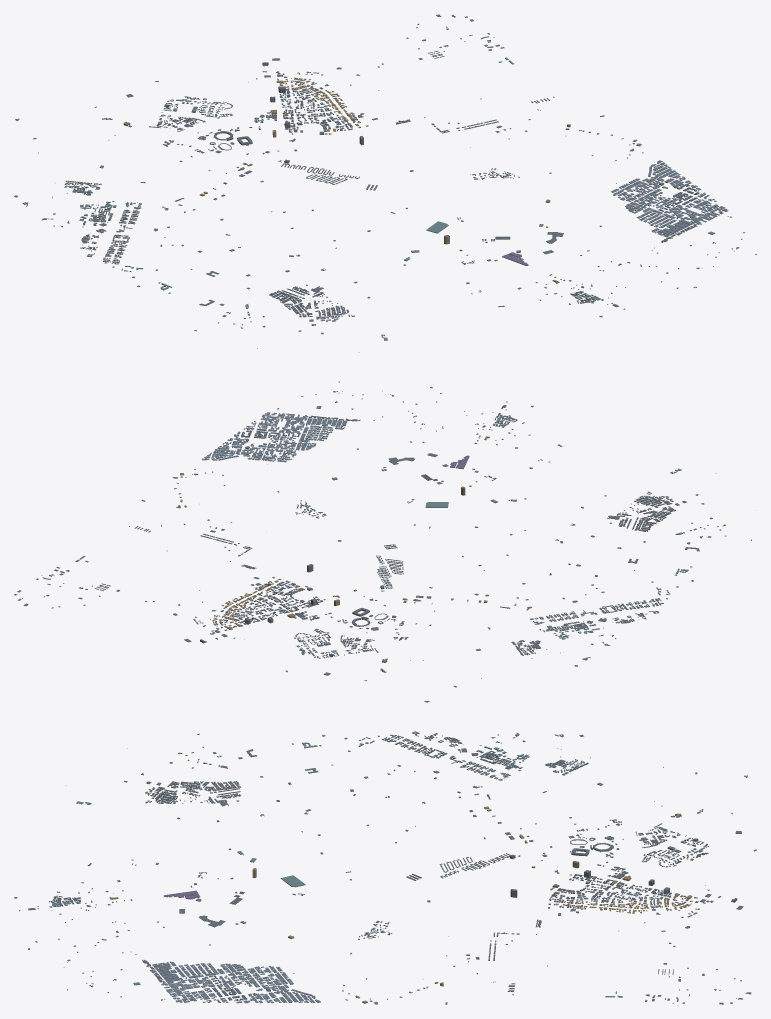
File: low_pilot.glb
The picture shows the model from 3 angles, top to bottom: view 1: azimuth 30°, elevation 25°; view 2: azimuth 150°, elevation 25°; view 3: azimuth 270°, elevation 25°; orthographic projection. The views are drawn at different scales.
Visible parts, largest first — view 1: building-unknown, building-residential, building-commercial, building-institutional; view 2: building-unknown, building-residential, building-commercial, building-institutional; view 3: building-unknown, building-residential, building-commercial, building-institutional.
Part boxes in pixels (<box>): building-unknown: <box>14,14,745,352</box>; building-residential: <box>38,71,728,324</box>; building-commercial: <box>123,77,684,328</box>; building-institutional: <box>41,35,756,340</box>; building-unknown: <box>14,390,751,702</box>; building-residential: <box>193,401,721,678</box>; building-commercial: <box>176,423,725,662</box>; building-institutional: <box>47,381,711,672</box>; building-unknown: <box>14,731,756,1004</box>; building-residential: <box>77,743,747,1003</box>; building-commercial: <box>86,752,692,1003</box>; building-institutional: <box>28,733,705,1004</box>.
Size of the model in its own units: 7746 by 106 by 8909.
